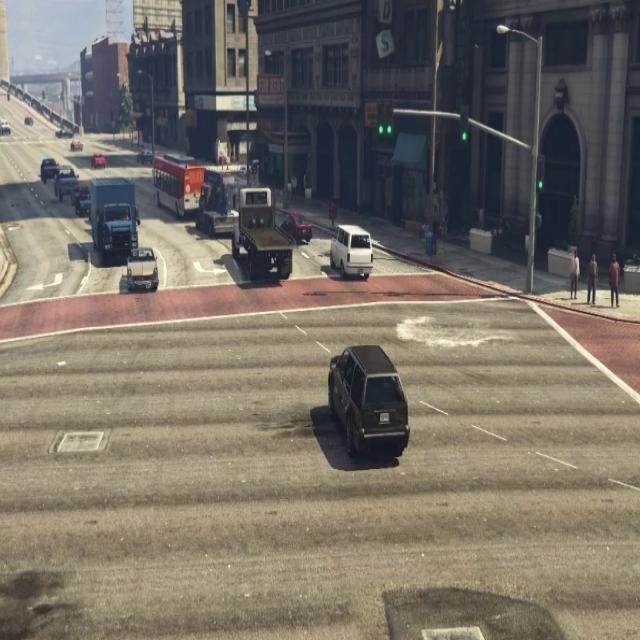Green-Signal: (375, 80, 400, 160), (454, 90, 476, 161), (533, 148, 549, 212)
